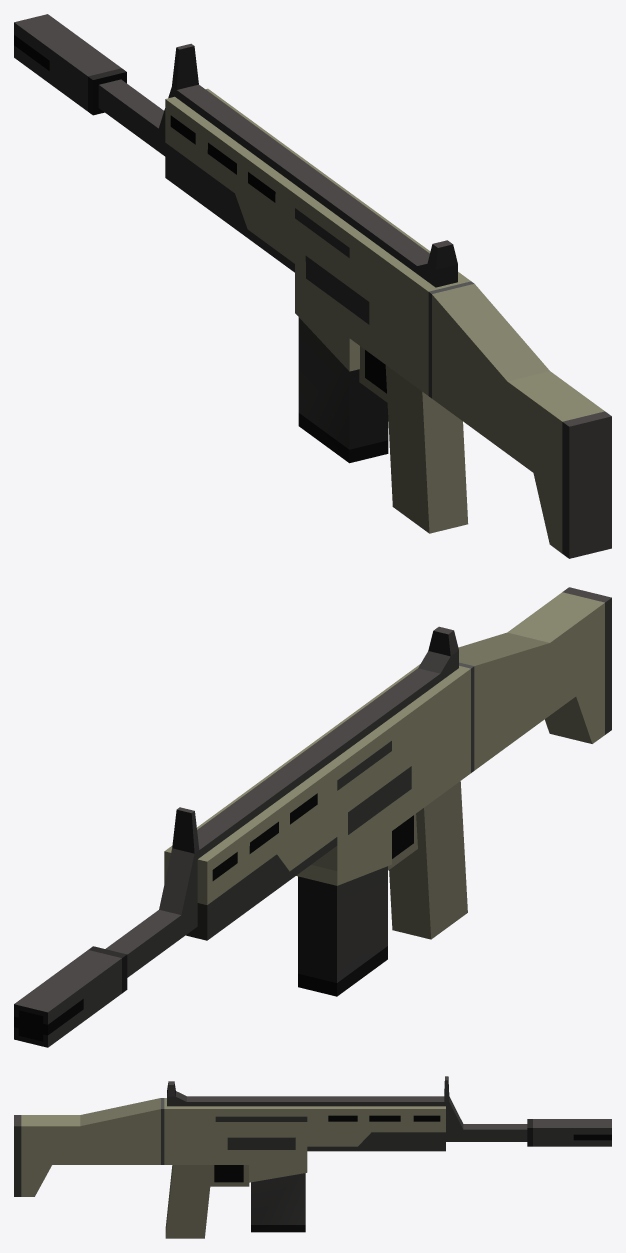
The model's file is Wep_FNSCAR.fbx.
3 renders of one model, top to bottom at view 1: azimuth 30°, elevation 25°; view 2: azimuth 150°, elevation 25°; view 3: azimuth 270°, elevation 25°, orthographic. The views are drawn at different scales.
Parts seen in each view (by area): view 1: Wep_FNSCAR; view 2: Wep_FNSCAR; view 3: Wep_FNSCAR.
Boxes of the visible parts, x1=… form: Wep_FNSCAR: x1=14, y1=14, x2=611, y2=558; Wep_FNSCAR: x1=14, y1=587, x2=611, y2=1047; Wep_FNSCAR: x1=14, y1=1076, x2=611, y2=1238.
Bounding box in the file's own units: 18.6 × 121 × 422.
